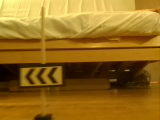left: (18, 66, 64, 86)
